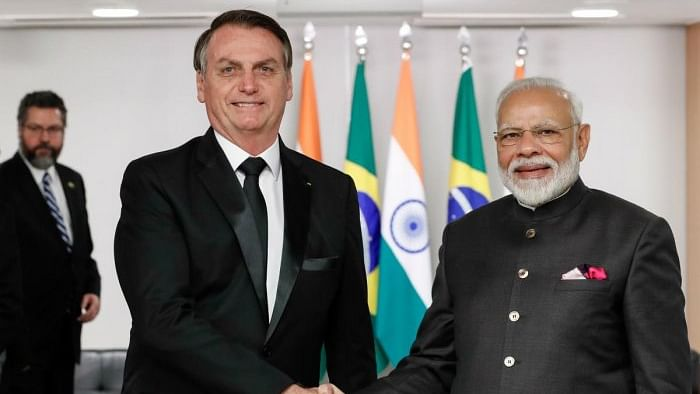modi: (464, 70, 616, 222)
